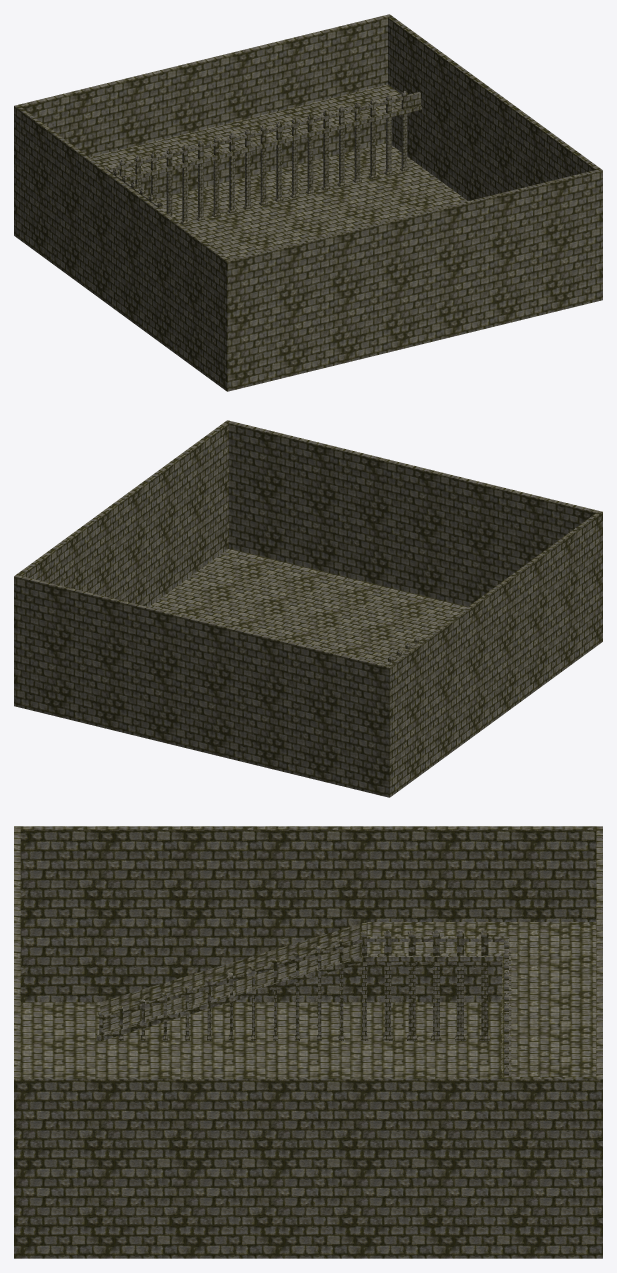
File: MainRoomOb.obj
The picture shows the model from 3 angles, top to bottom: view 1: azimuth 30°, elevation 25°; view 2: azimuth 150°, elevation 25°; view 3: azimuth 270°, elevation 25°; orthographic projection. The views are drawn at different scales.
Parts seen in each view (by area): view 1: Cube; view 2: Cube; view 3: Cube.
Part boxes in pixels (x1,y1,x2,y2): Cube: (14,14,602,391); Cube: (14,420,602,797); Cube: (14,826,602,1258).
Size of the model in its own units: 14.82 by 4.9 by 14.58.
Materials: 1 (1 with a texture image).
